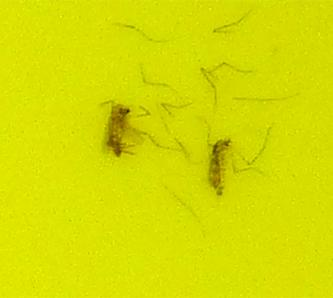Nematocera: (100, 100, 146, 159), (204, 136, 233, 198)
